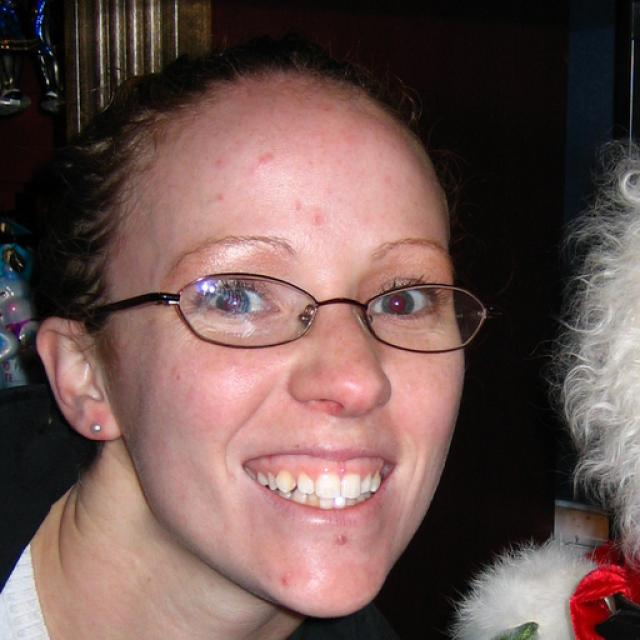Acne: (251, 142, 284, 173), (329, 528, 357, 557), (304, 202, 325, 230), (210, 185, 236, 206), (203, 155, 234, 172), (285, 200, 306, 221), (227, 361, 241, 378)
Spots: (273, 569, 297, 592)
